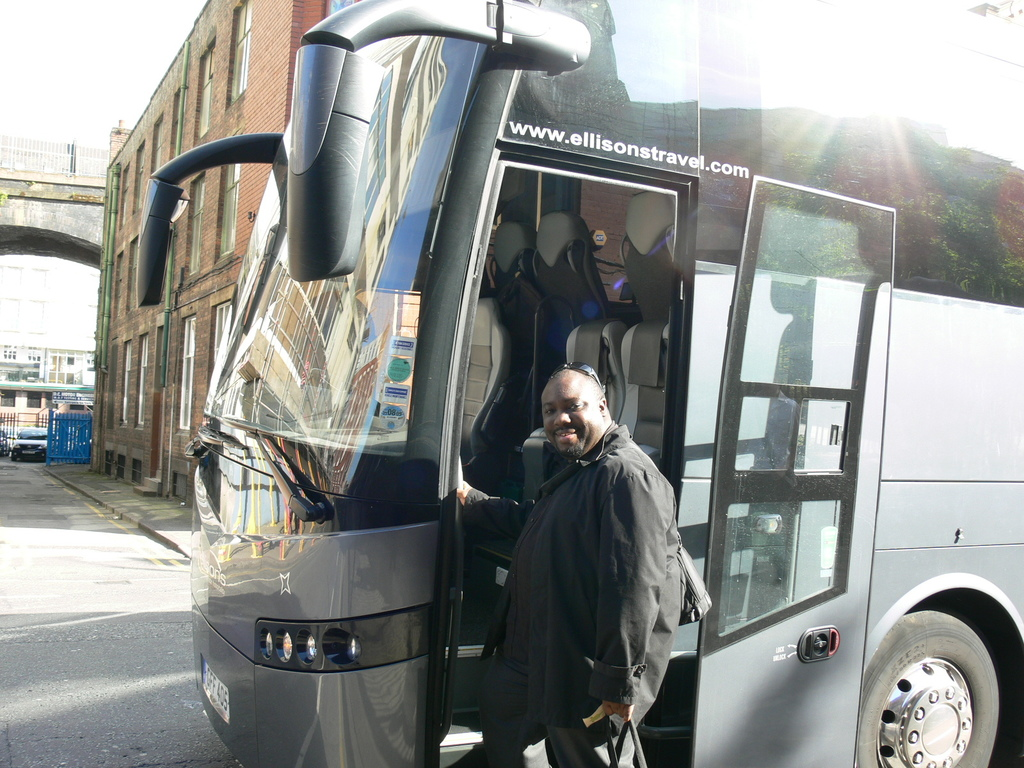Car: (7, 424, 52, 462)
